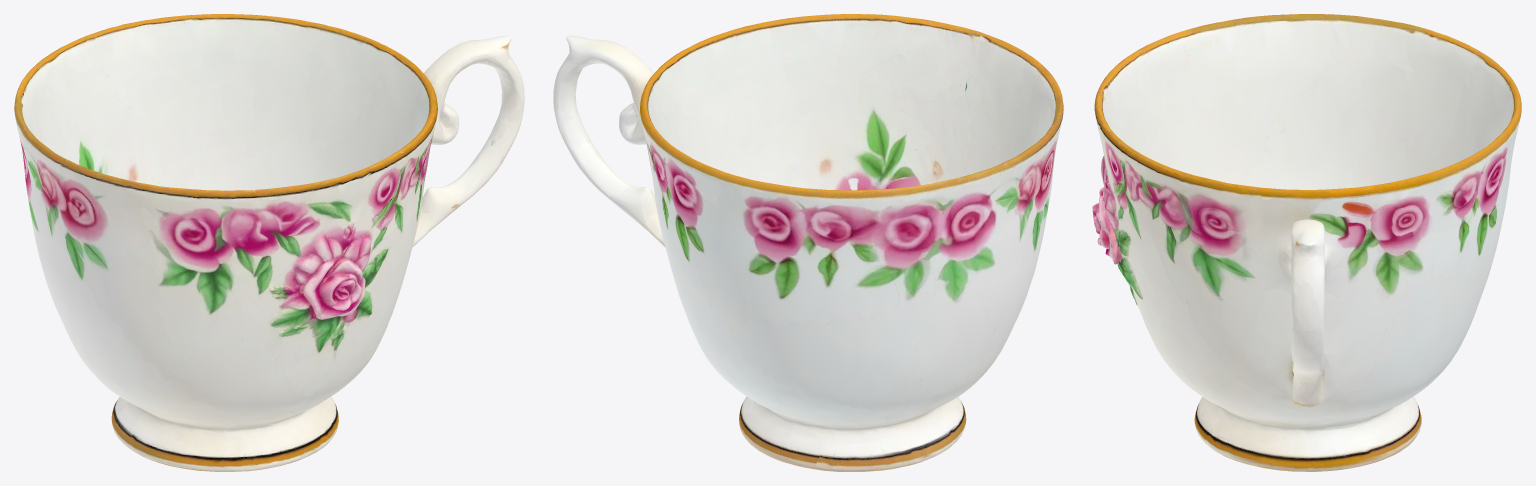
Rendered from kitchen-teacup-09.glb.
The picture shows the model from 3 angles, left to right: view 1: azimuth 30°, elevation 25°; view 2: azimuth 150°, elevation 25°; view 3: azimuth 270°, elevation 25°; orthographic projection.
Bounding box in the file's own units: 1.9 × 1.23 × 1.47.
Materials: 1 (1 with a texture image).
